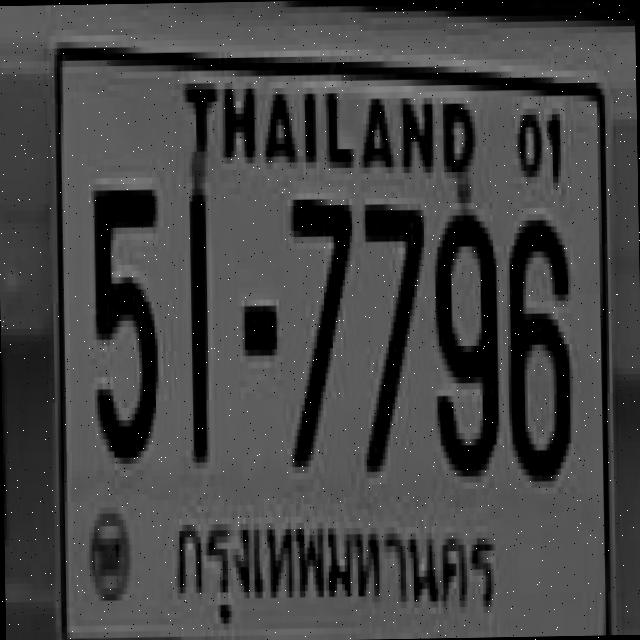1: (187, 185, 210, 459)
5: (90, 180, 158, 461)
6: (504, 213, 570, 475)
7: (287, 192, 353, 467), (358, 194, 424, 469)
9: (431, 205, 497, 473)
Bangkok: (166, 499, 505, 640)
